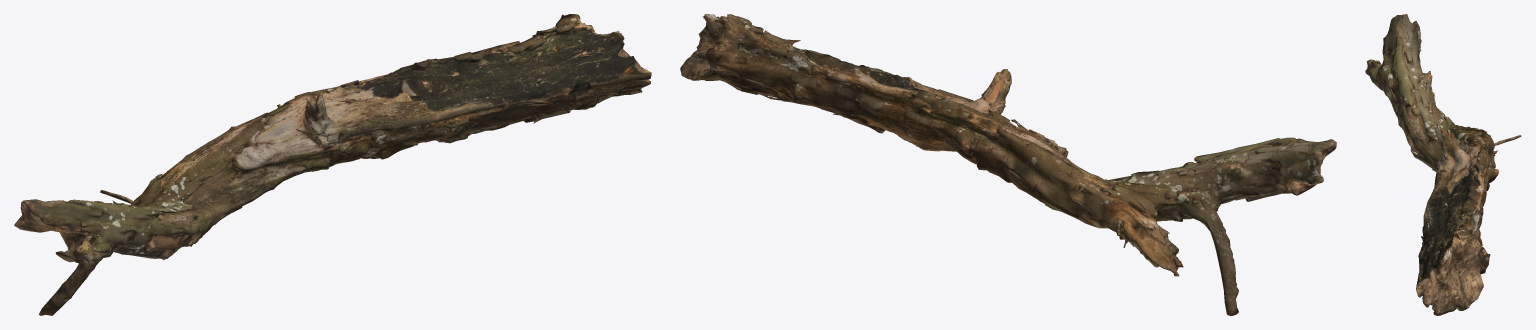
The model's file is dead_tree_trunk_02.glb.
The picture shows the model from 3 angles, left to right: view 1: azimuth 30°, elevation 25°; view 2: azimuth 150°, elevation 25°; view 3: azimuth 270°, elevation 25°; orthographic projection. The views are drawn at different scales.
Visible parts, largest first — view 1: dead_tree_trunk_02; view 2: dead_tree_trunk_02; view 3: dead_tree_trunk_02.
Boxes of the visible parts, box(x1,y1,x2,y2) form: dead_tree_trunk_02: box(14, 14, 651, 315); dead_tree_trunk_02: box(680, 14, 1336, 315); dead_tree_trunk_02: box(1365, 14, 1521, 315).
Bounding box in the file's own units: 4.05 × 1.05 × 1.05.
1 material, 1 textured.
